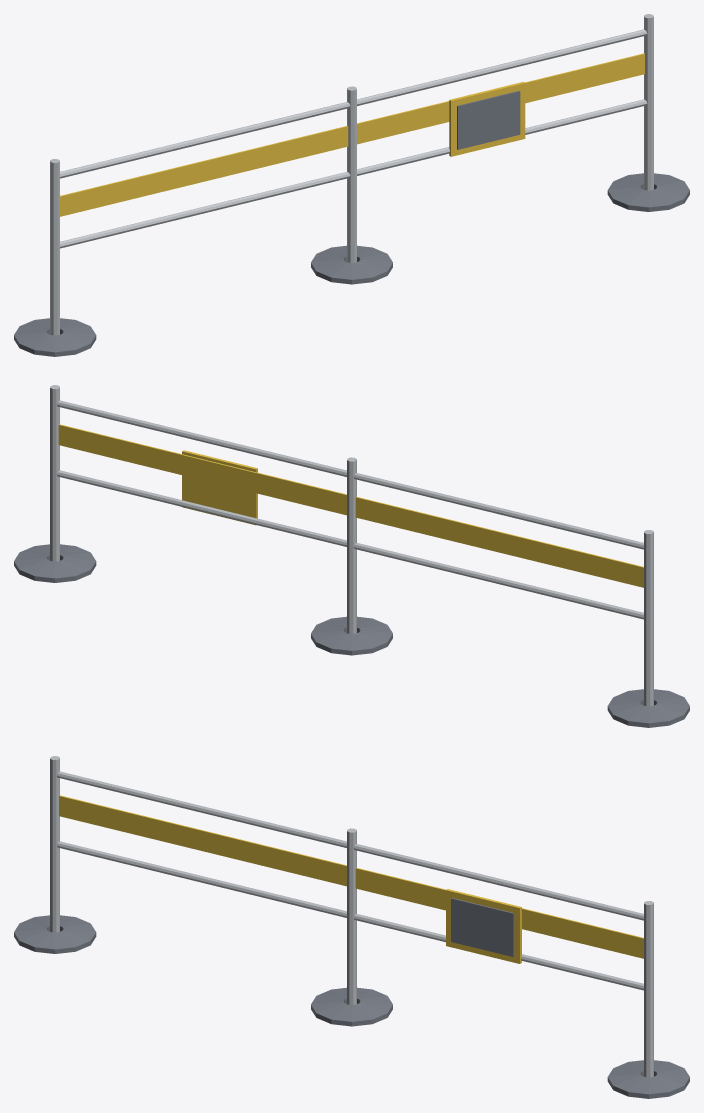
Rendered from ufo-crash-site-and-recovery-facility-cordon-fence-run-e90c371d__17339.glb.
3 views of the same model, one above another, from view 1: azimuth 30°, elevation 25°; view 2: azimuth 150°, elevation 25°; view 3: azimuth 330°, elevation 25° (orthographic).
Parts seen in each view (by area): view 1: cordon-fence-run; view 2: cordon-fence-run; view 3: cordon-fence-run.
Part boxes in pixels (x1=…): cordon-fence-run: x1=14, y1=14, x2=689, y2=356; cordon-fence-run: x1=14, y1=385, x2=689, y2=727; cordon-fence-run: x1=14, y1=756, x2=689, y2=1098.
Size of the model in its own units: 4.48 by 1.15 by 0.4802.
